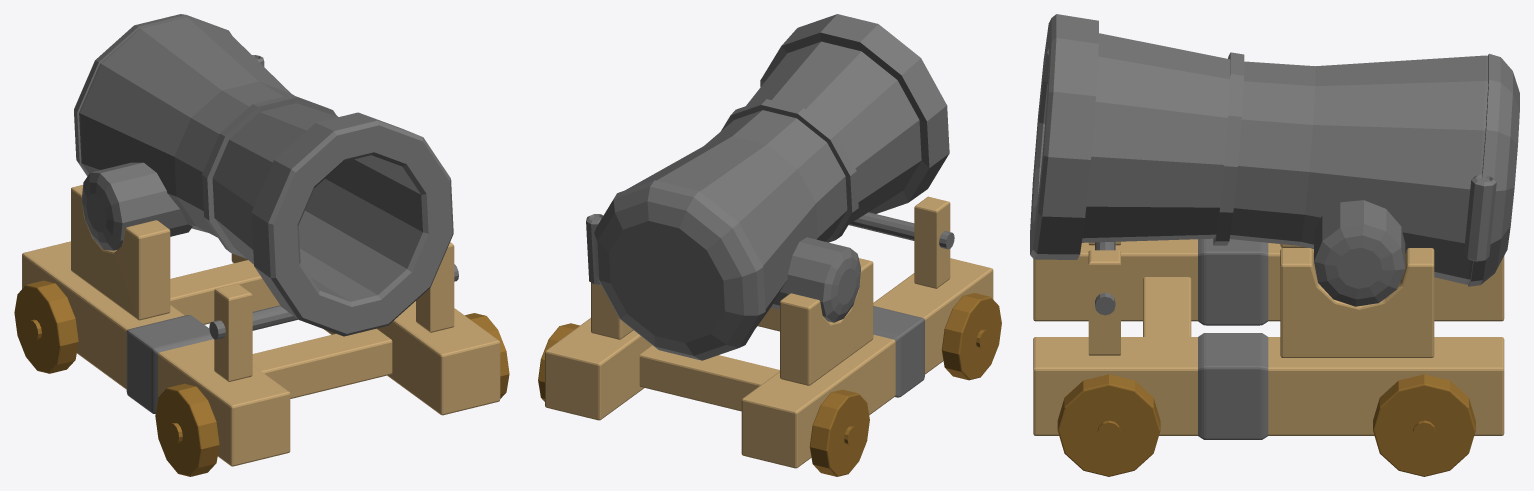
File: cannon.glb
The picture shows the model from 3 angles, left to right: view 1: azimuth 30°, elevation 25°; view 2: azimuth 150°, elevation 25°; view 3: azimuth 270°, elevation 25°; orthographic projection. The views are drawn at different scales.
Visible parts, largest first — view 1: Cannon_main, cannon_frame, wheels_front, wheels_back_duplicate, back_cap_mesh; view 2: Cannon_main, cannon_frame, back_cap_mesh, wheels_back_duplicate, wheels_front, hinge_and_back_cap; view 3: Cannon_main, cannon_frame, wheels_front, wheels_back_duplicate, back_cap_mesh, hinge_and_back_cap.
Part boxes in pixels (<box>): Cannon_main: <box>79,16,453,336</box>; cannon_frame: <box>22,185,500,466</box>; wheels_front: <box>155,313,509,476</box>; wheels_back_duplicate: <box>14,280,78,373</box>; back_cap_mesh: <box>74,14,231,176</box>; Cannon_main: <box>625,14,949,327</box>; cannon_frame: <box>545,196,993,468</box>; back_cap_mesh: <box>594,180,765,360</box>; wheels_back_duplicate: <box>538,323,869,476</box>; wheels_front: <box>941,293,1001,380</box>; hinge_and_back_cap: <box>586,214,603,284</box>; Cannon_main: <box>1030,14,1488,306</box>; cannon_frame: <box>1033,238,1504,439</box>; wheels_front: <box>1057,374,1160,476</box>; wheels_back_duplicate: <box>1373,374,1475,476</box>; back_cap_mesh: <box>1468,53,1519,286</box>; hinge_and_back_cap: <box>1463,175,1496,261</box>.
Bounding box in the file's own units: 3.96 × 3.92 × 4.74.
